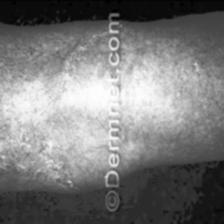Non-Cancerous Skin Condition: (0, 45, 108, 177)
